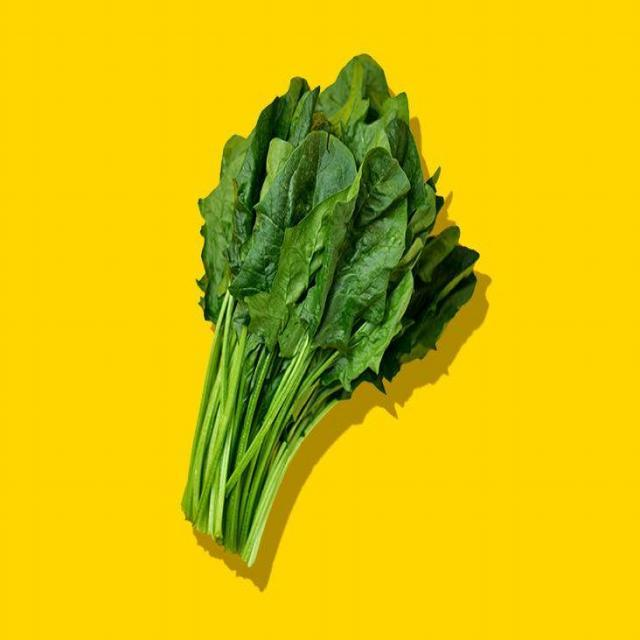Spinach: (172, 46, 479, 577)
